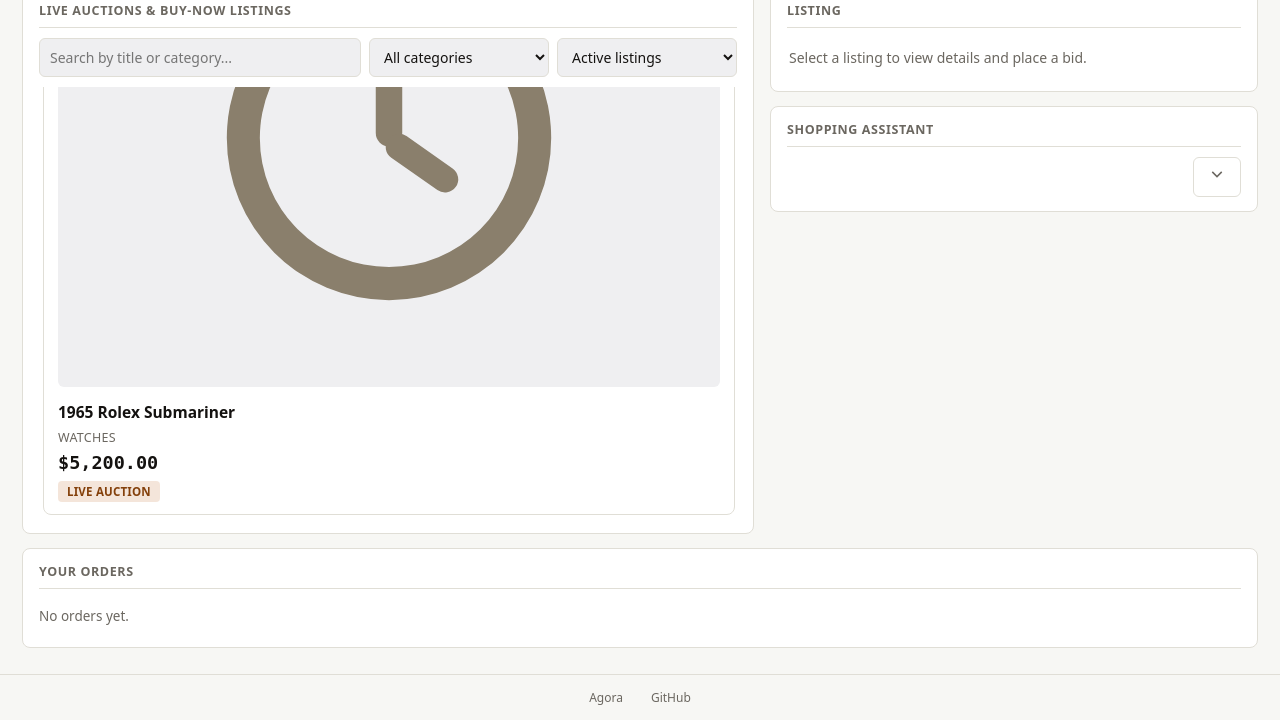
Scenario: Shop › renders a fetched listing in the grid and shows its detail when selected
(page scrolled)
Step 1. Click the text "1965 Rolex Submariner" → (147, 412), box [58,400,235,422]
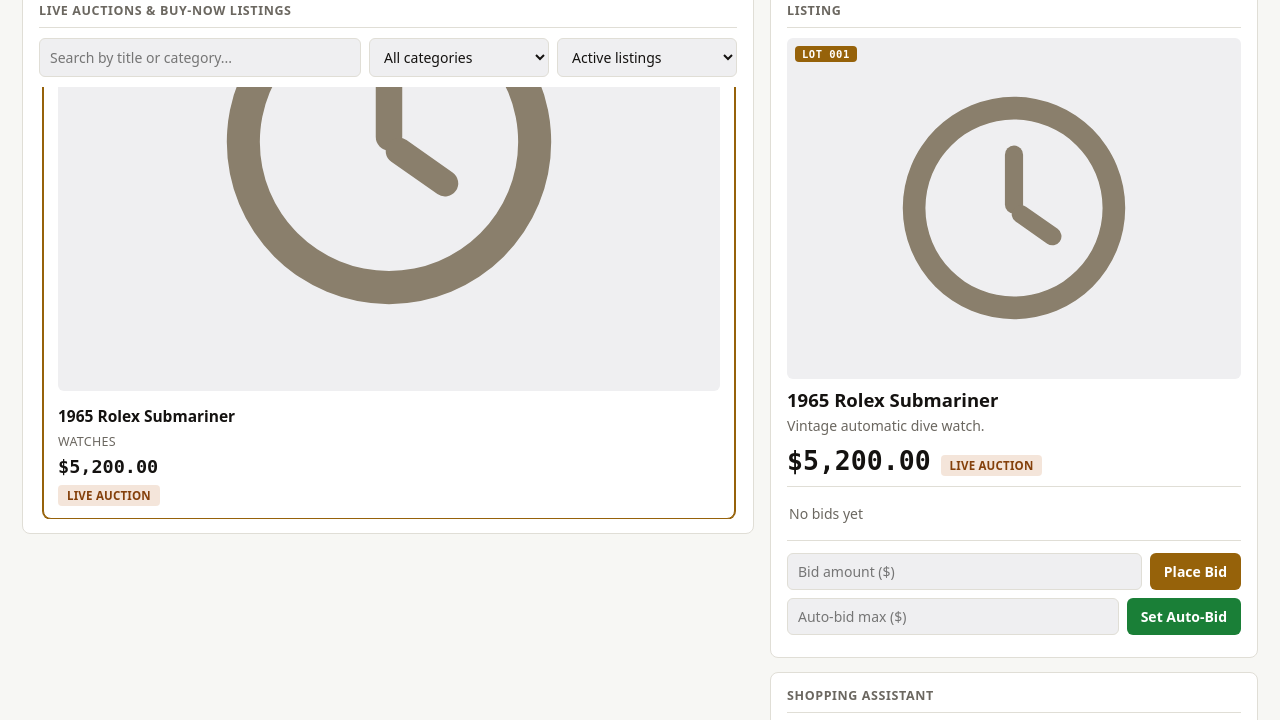
Expected: the text "Vintage automatic dive watch." is shown, [787,416,985,434]
Expected: the button "Place Bid" is shown, [1150,552,1241,590]
